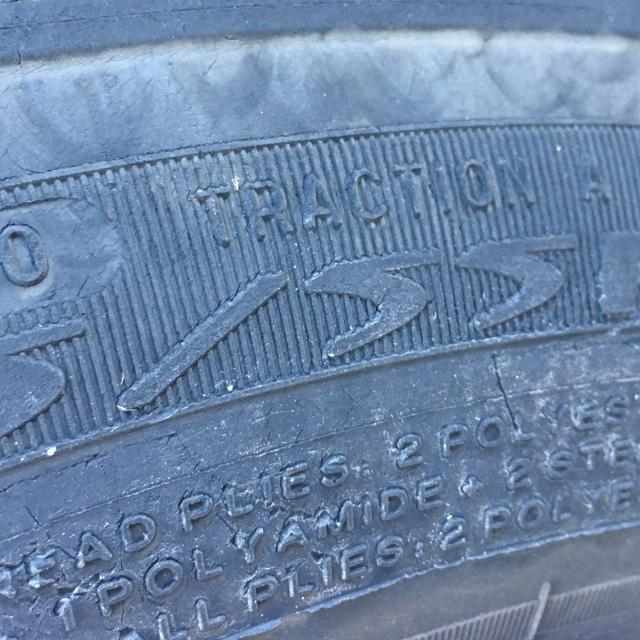Cracks: (0, 412, 356, 624), (472, 349, 560, 449)
